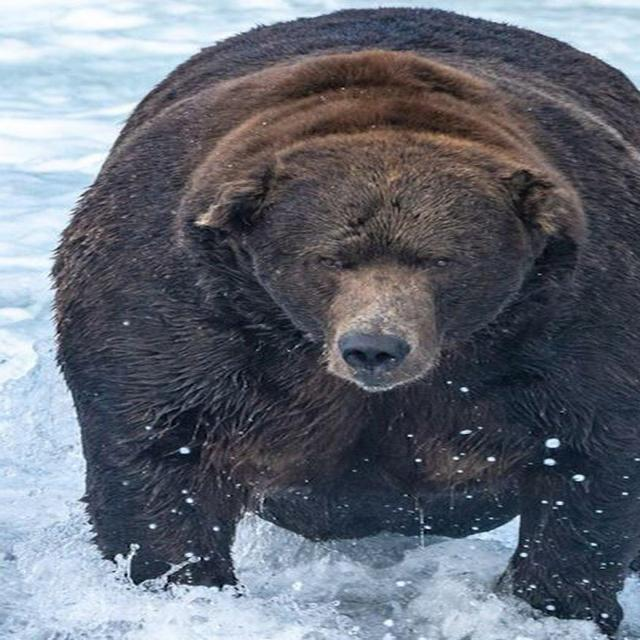Bear: (51, 7, 640, 639)
